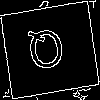Q: (25, 25, 68, 80)
